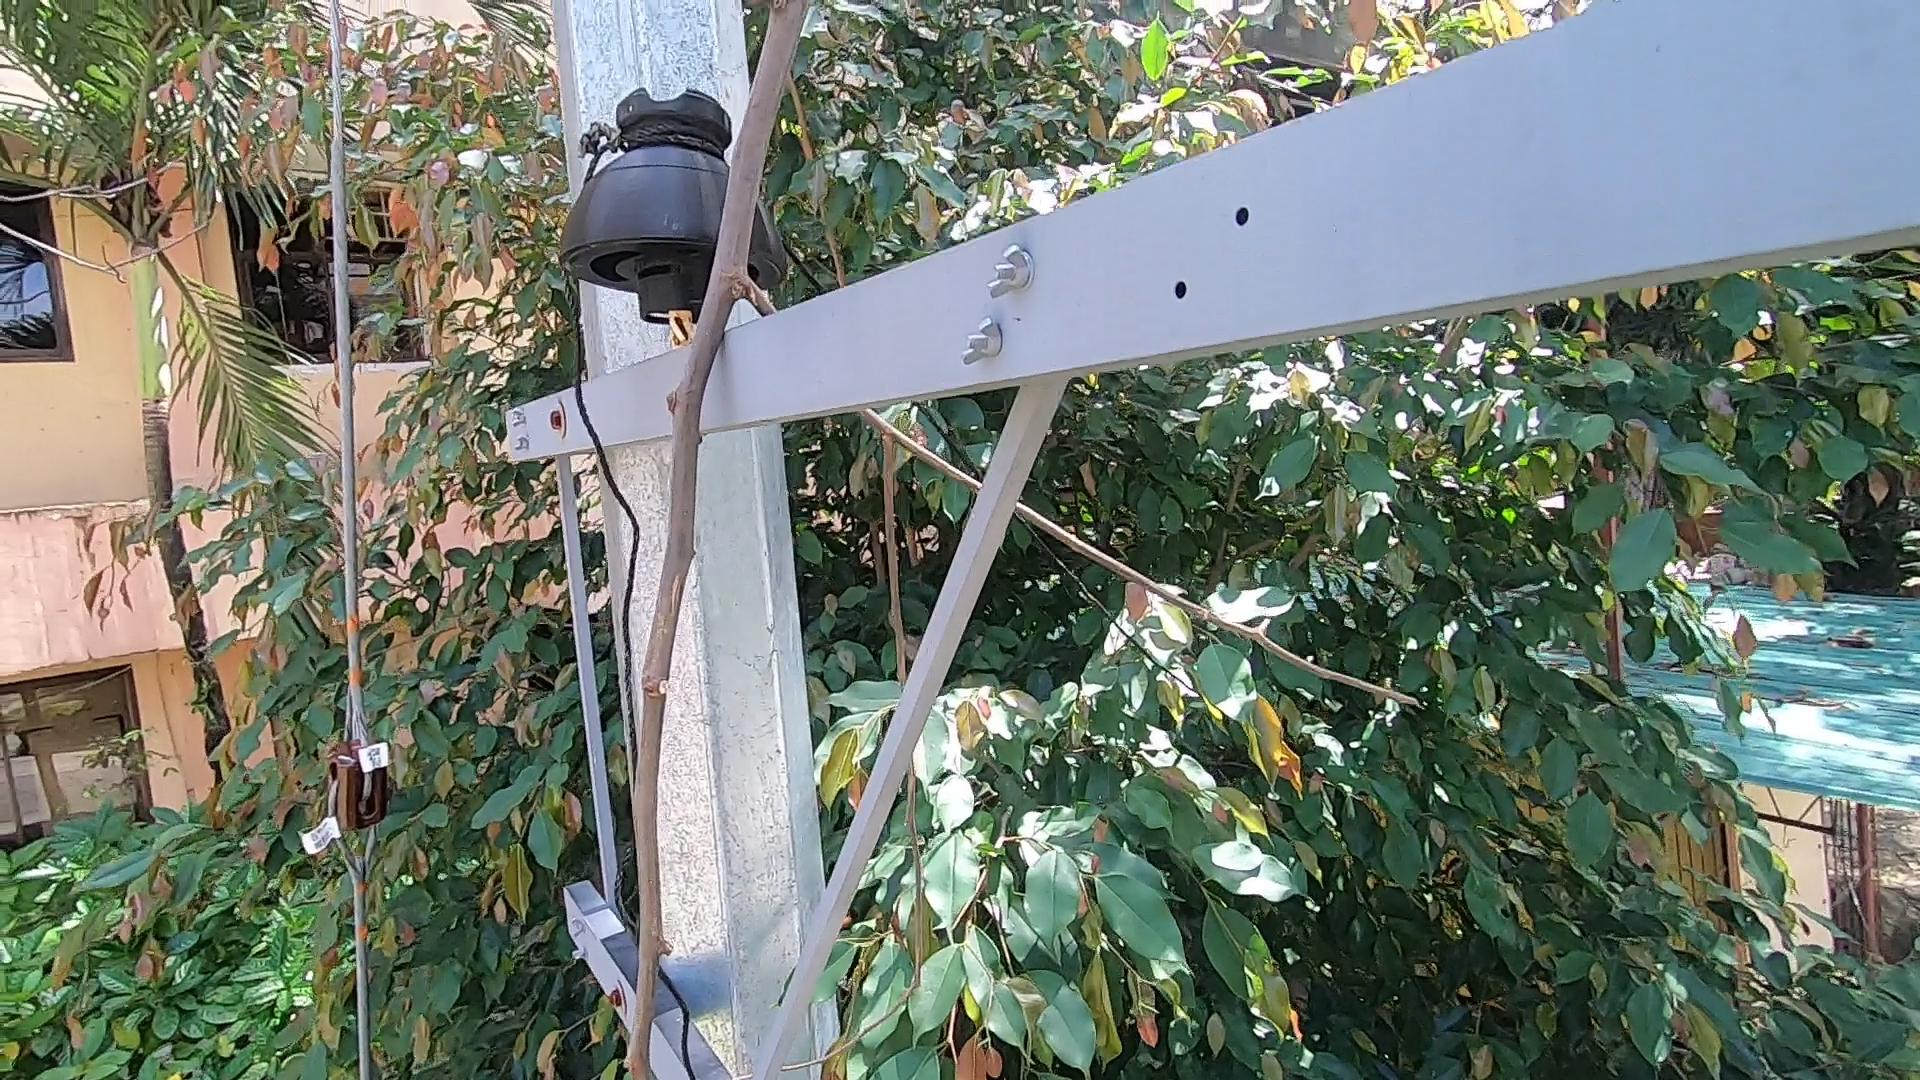tree branch: (564, 1, 793, 1080)
